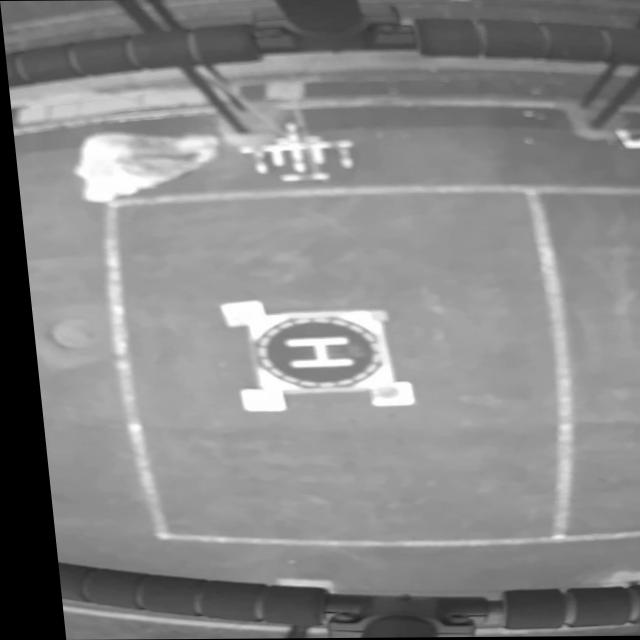Helipad: (275, 336, 347, 368)
